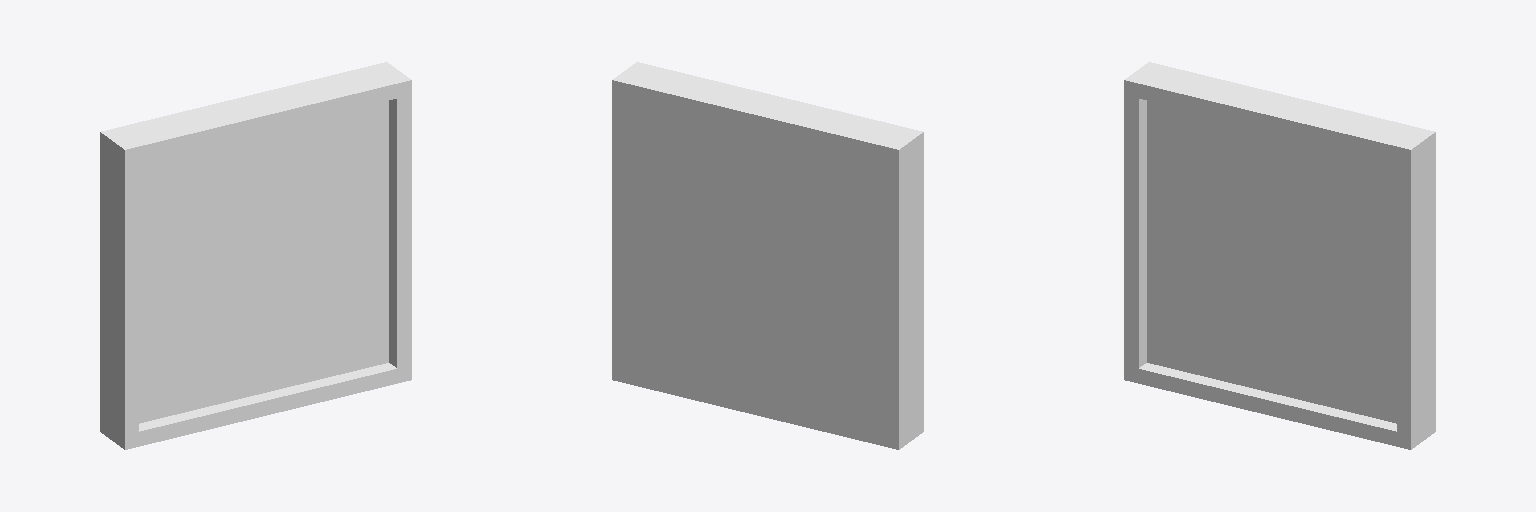
File: ScripturePickupVoxel.obj
3 views of the same model, side by side, from view 1: azimuth 30°, elevation 25°; view 2: azimuth 150°, elevation 25°; view 3: azimuth 330°, elevation 25° (orthographic).
Parts seen in each view (by area): view 1: object 1; view 2: object 1; view 3: object 1.
Part boxes in pixels (bbox=[...]): object 1: bbox=[100, 62, 411, 449]; object 1: bbox=[612, 62, 923, 449]; object 1: bbox=[1124, 62, 1435, 449].
Bounding box in the file's own units: 2 × 2 × 0.3.